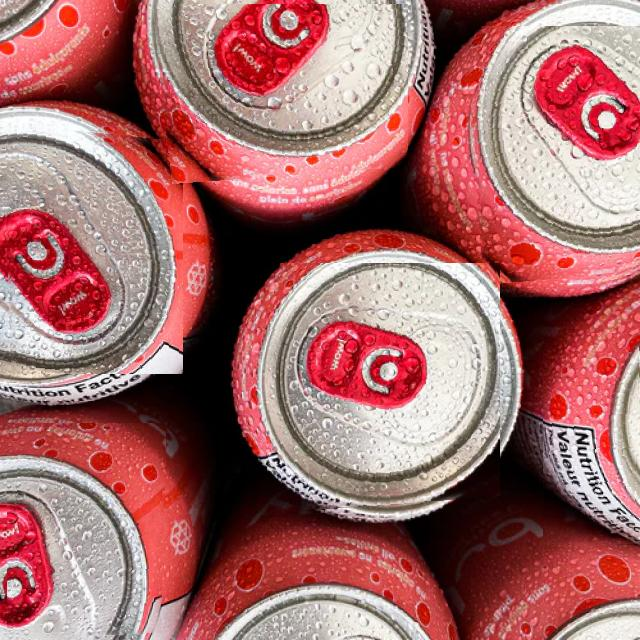Cans: (246, 263, 500, 515), (152, 4, 408, 184), (463, 26, 640, 285), (2, 123, 183, 374), (8, 423, 168, 640), (543, 333, 640, 548)
